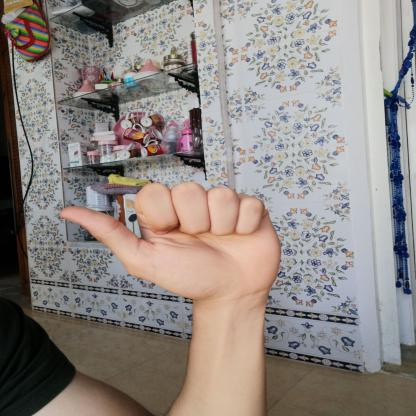DAD: (47, 174, 295, 309)
